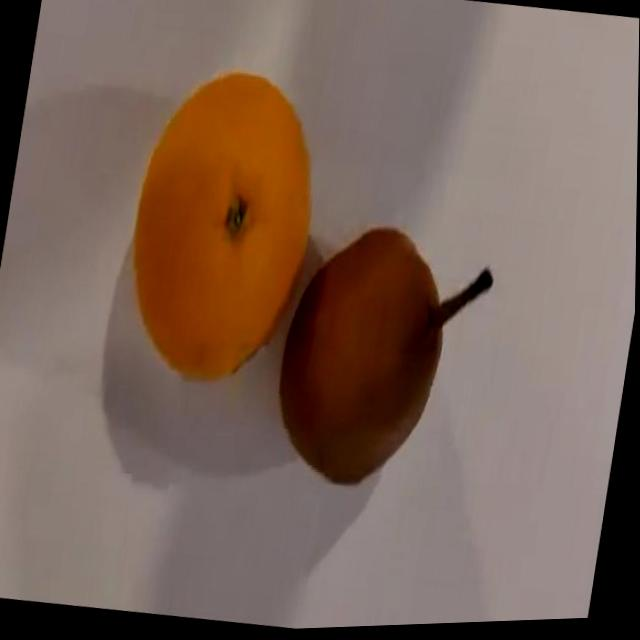Orange: (113, 60, 335, 400)
